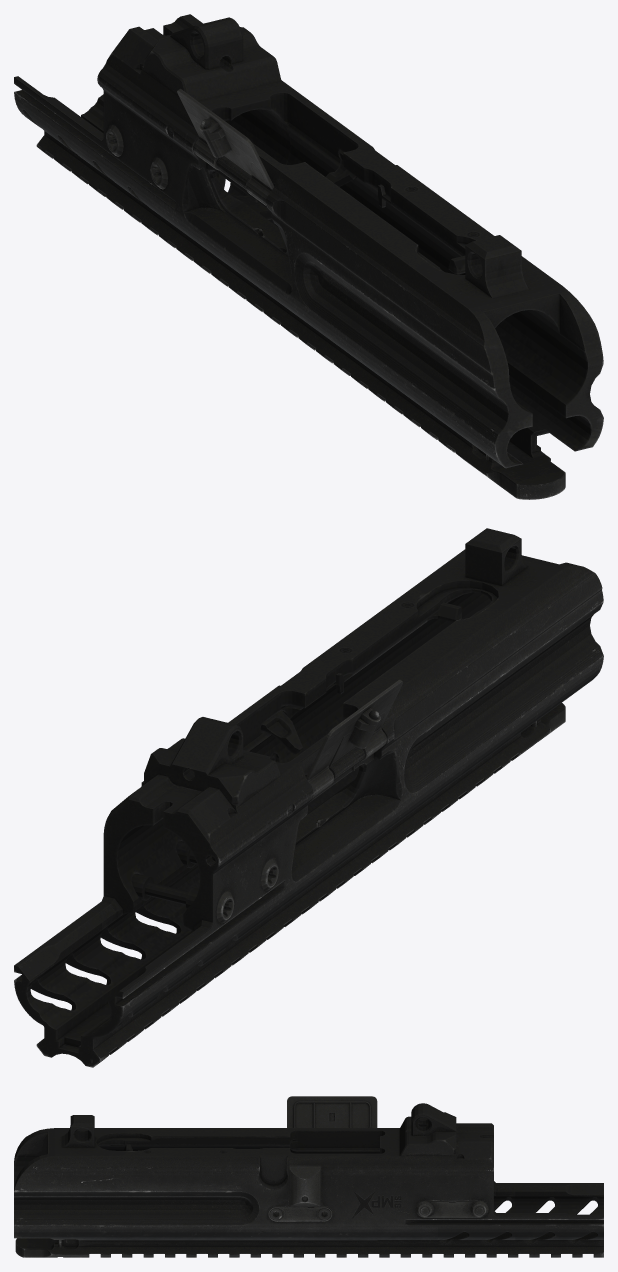
3 renders of one model, top to bottom at view 1: azimuth 30°, elevation 25°; view 2: azimuth 150°, elevation 25°; view 3: azimuth 270°, elevation 25°, orthographic. The views are drawn at different scales.
Parts seen in each view (by area): view 1: TW_5894a5b586f77426d2590767_PZ_Import; view 2: TW_5894a5b586f77426d2590767_PZ_Import; view 3: TW_5894a5b586f77426d2590767_PZ_Import.
Boxes of the visible parts, x1,y1,x2,y2 form: TW_5894a5b586f77426d2590767_PZ_Import: (14,14,603,499); TW_5894a5b586f77426d2590767_PZ_Import: (14,528,603,1067); TW_5894a5b586f77426d2590767_PZ_Import: (14,1096,603,1257).
Size of the model in its own units: 0.029 by 0.1592 by 0.0423.
Materials: 1 (1 with a texture image).
